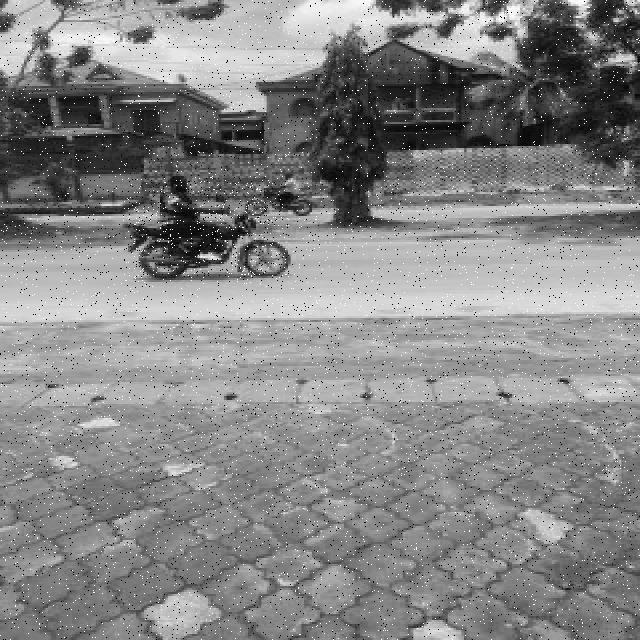Motorbike: (128, 176, 289, 278)
